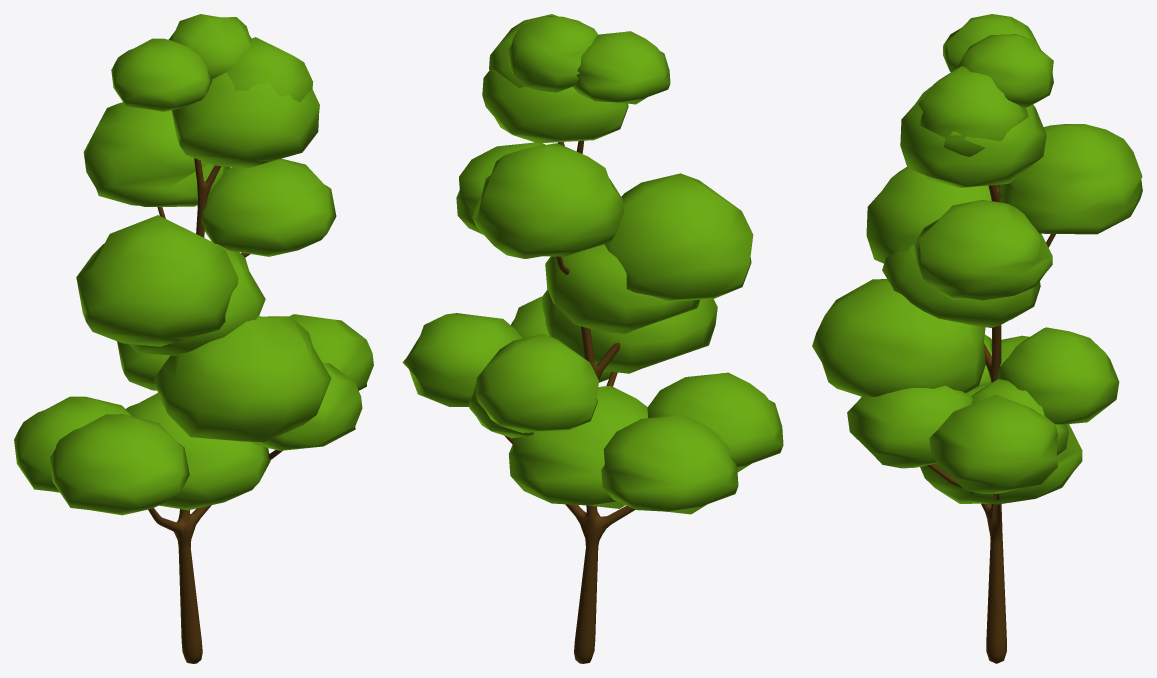
Rendered from OpenTreeMK3.fbx.
3 renders of one model, left to right at view 1: azimuth 30°, elevation 25°; view 2: azimuth 150°, elevation 25°; view 3: azimuth 270°, elevation 25°, orthographic.
Parts seen in each view (by area): view 1: Leaves.002, LeavesMK2.002, LeavesMK3.002, LeavesMK3.001, LeavesMK2.001, LeavesMK5, LeavesMK3.004, LeavesMK3, LeavesMK3.003, Cube, LeavesMK4.001, LeavesMK2 (+4 smaller); view 2: LeavesMK2.002, LeavesMK5, LeavesMK3.003, LeavesMK2.003, LeavesMK3.004, LeavesMK3.002, Leaves.001, LeavesMK4, LeavesMK2.001, Leaves.002, LeavesMK3, Leaves (+5 smaller); view 3: Leaves.002, LeavesMK5, LeavesMK3.001, LeavesMK4, LeavesMK2.003, LeavesMK2.001, LeavesMK4.001, LeavesMK2, LeavesMK2.002, Leaves.001, Leaves, Cube (+3 smaller).
Part boxes in pixels (x1,y1,x2,y2): Leaves.002: (154,316,331,442); LeavesMK2.002: (76,215,238,346); LeavesMK3.002: (50,414,189,515); LeavesMK3.001: (197,158,336,256); LeavesMK2.001: (172,72,319,168); LeavesMK5: (83,102,230,206); LeavesMK3.004: (125,393,270,510); LeavesMK3: (111,38,211,111); LeavesMK3.003: (14,396,131,492); Cube: (148,158,282,663); LeavesMK4.001: (251,362,362,450); LeavesMK2: (226,37,313,101); LeavesMK2.002: (604,173,753,300); LeavesMK5: (472,143,623,258); LeavesMK3.003: (601,414,738,514); LeavesMK2.003: (475,334,598,432); LeavesMK3.004: (508,386,647,508); LeavesMK3.002: (647,372,783,471); Leaves.001: (545,244,699,333); LeavesMK4: (402,313,522,406); LeavesMK2.001: (482,68,628,143); Leaves.002: (542,289,717,373); LeavesMK3: (572,31,670,104); Leaves: (507,15,598,92); Leaves.002: (812,279,985,396); LeavesMK5: (1000,124,1142,234); LeavesMK3.001: (913,199,1052,300); LeavesMK4: (929,394,1057,493); LeavesMK2.003: (997,327,1119,424); LeavesMK2.001: (900,86,1046,187); LeavesMK4.001: (847,385,972,468); LeavesMK2: (918,66,1028,156); LeavesMK2.002: (866,167,991,263); Leaves.001: (882,244,1040,327); Leaves: (958,34,1053,107); Cube: (927,184,1055,663).
Size of the model in its own units: 1653 by 3048 by 1435.
